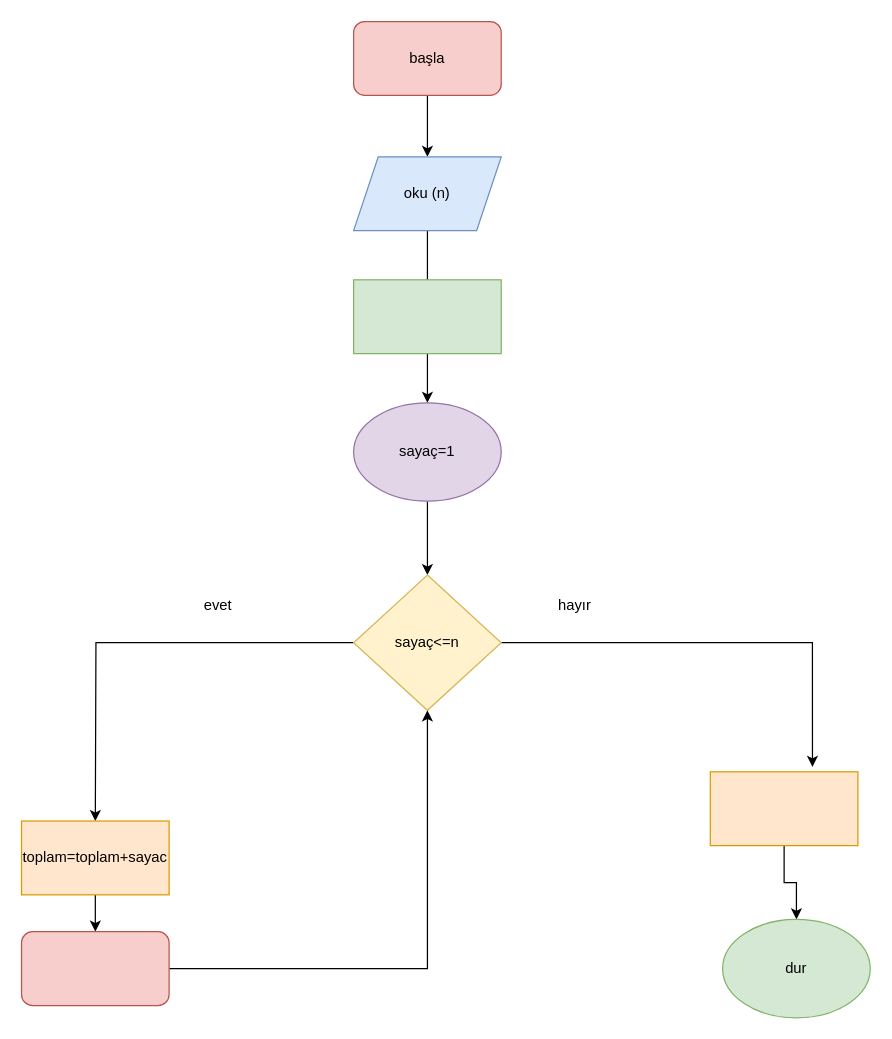
The diagram is 892 pixels wide and 1039 high, and some of its shapes have lost their labels. The shapes that lost their labels are listed below. From the top down, each one's centre as x and y in pixels, then its label:
At pixel 426 316: "toplam=0".
At pixel 783 808: "toplam yazdır".
At pixel 94 968: "sayac=sayac+1".
